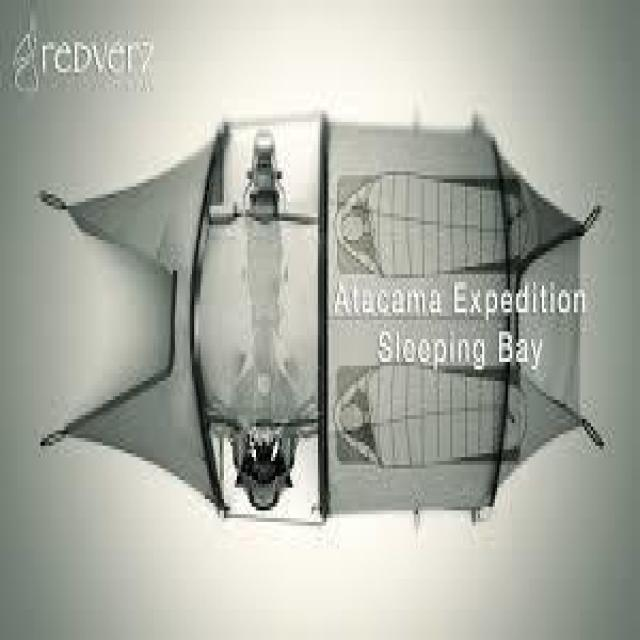MIL_MBT: (25, 40, 569, 585)
